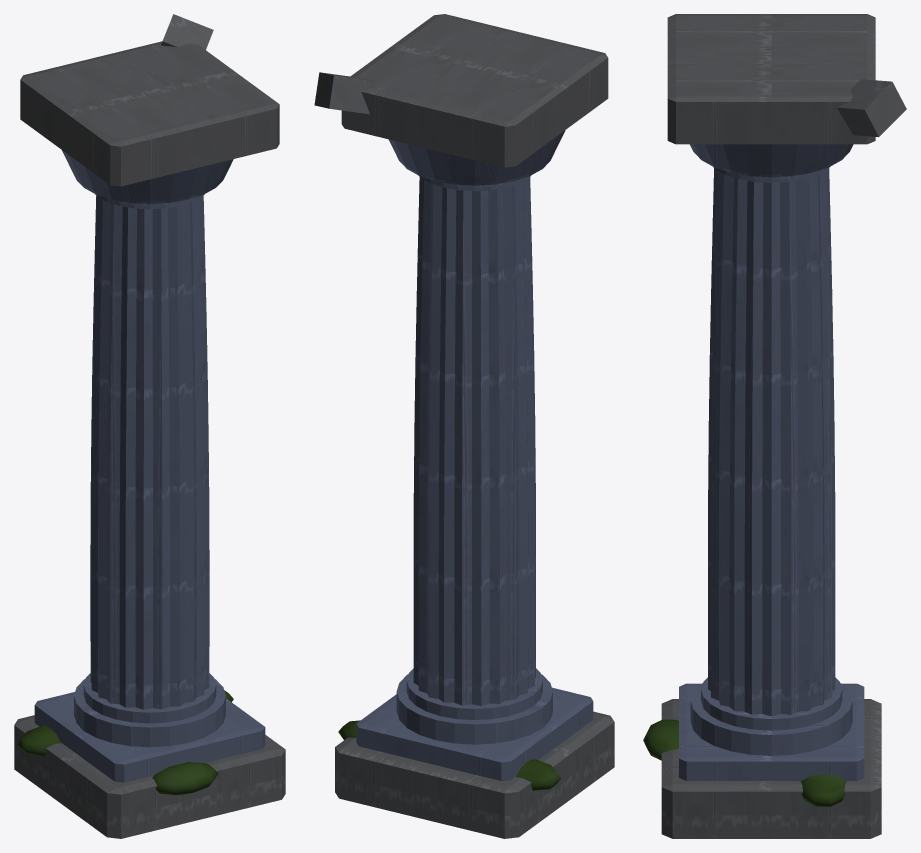
The model's file is column.glb.
3 views of the same model, side by side, from view 1: azimuth 30°, elevation 25°; view 2: azimuth 150°, elevation 25°; view 3: azimuth 270°, elevation 25° (orthographic). The views are drawn at different scales.
Parts seen in each view (by area): view 1: box; view 2: box; view 3: box.
Boxes of the visible parts, left/top/right/bottom form: box: left=14, top=14, right=285, bottom=838; box: left=314, top=14, right=614, bottom=838; box: left=643, top=14, right=906, bottom=838.
Bounding box in the file's own units: 2.21 × 7.05 × 2.23.
3 materials, 3 textured.
